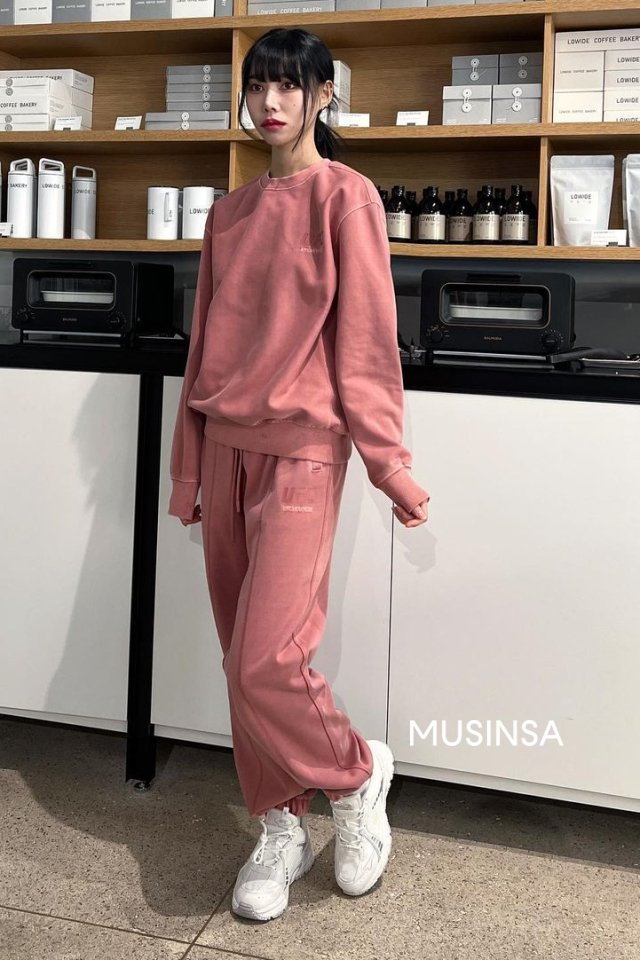Pants: (193, 428, 379, 812)
Shoes: (222, 741, 406, 923)
Sweatshirt: (156, 156, 428, 521)
